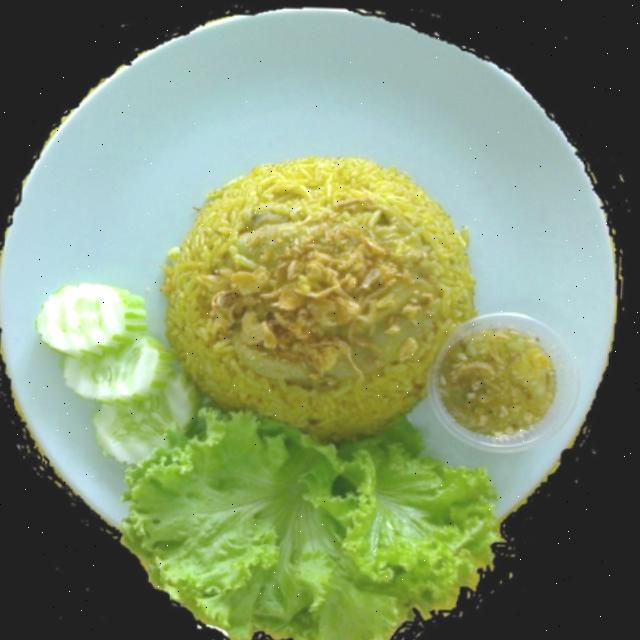米饭主食: (0, 19, 613, 638)
